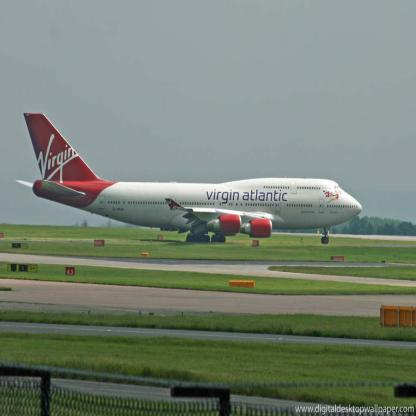CIV_Plane: (16, 110, 362, 253)
